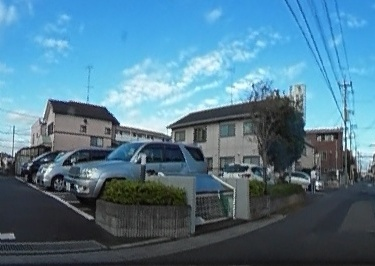person: (308, 165, 317, 192)
